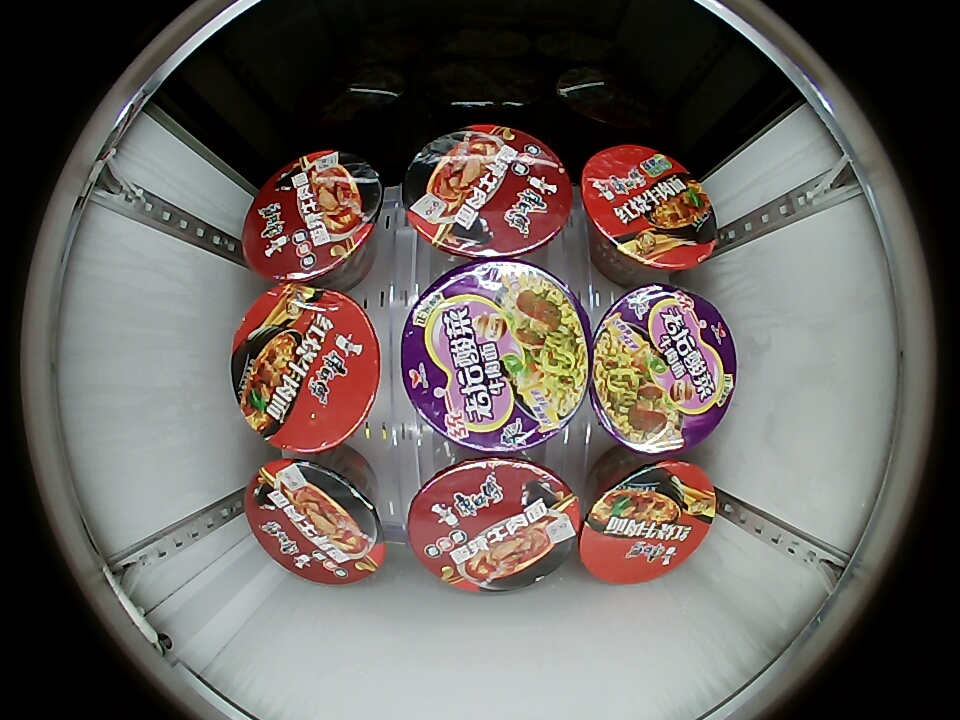hongshaoniurou: (231, 284, 382, 453), (581, 145, 717, 273), (579, 458, 716, 584)
laotansuancai: (400, 259, 593, 455), (588, 284, 737, 455)
suanlaniurou: (406, 456, 582, 593), (403, 124, 573, 260), (242, 150, 382, 283), (245, 457, 386, 584)
